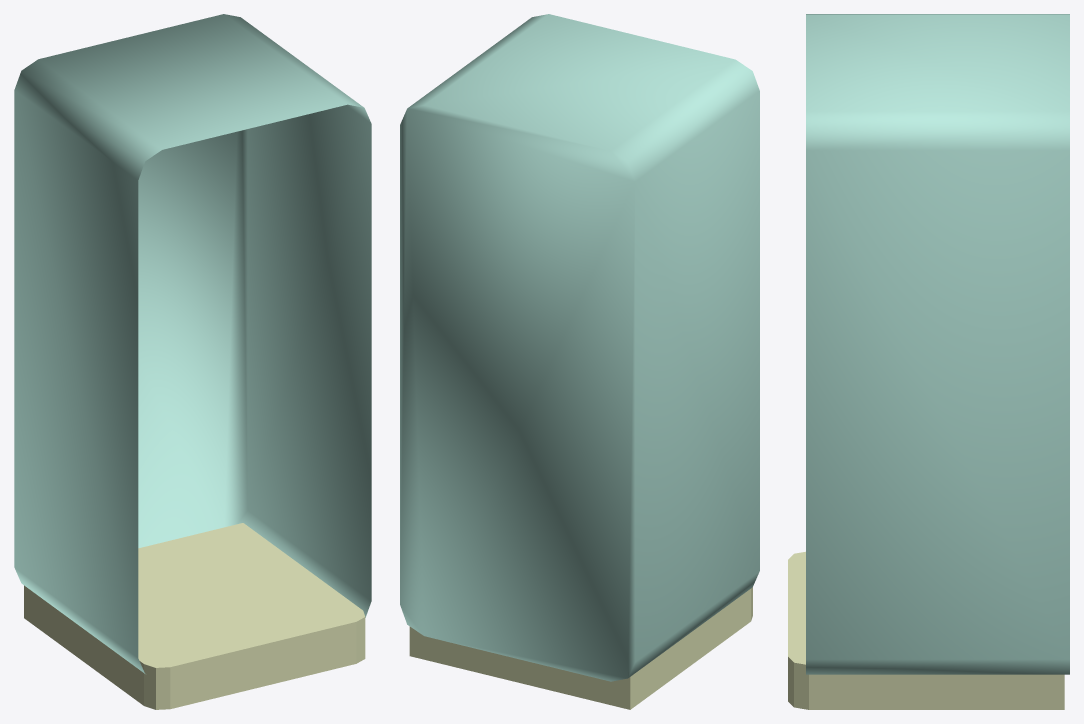
The model's file is K_Fridge.glb.
3 renders of one model, left to right at view 1: azimuth 30°, elevation 25°; view 2: azimuth 150°, elevation 25°; view 3: azimuth 270°, elevation 25°, orthographic. The views are drawn at different scales.
Visible parts, largest first — view 1: Kitchen_Fridge; view 2: Kitchen_Fridge; view 3: Kitchen_Fridge.
Boxes of the visible parts, x1=… form: Kitchen_Fridge: x1=14, y1=14, x2=371, y2=709; Kitchen_Fridge: x1=400, y1=14, x2=759, y2=709; Kitchen_Fridge: x1=788, y1=14, x2=1069, y2=709.
Bounding box in the file's own units: 1.3 × 2.94 × 1.27.
